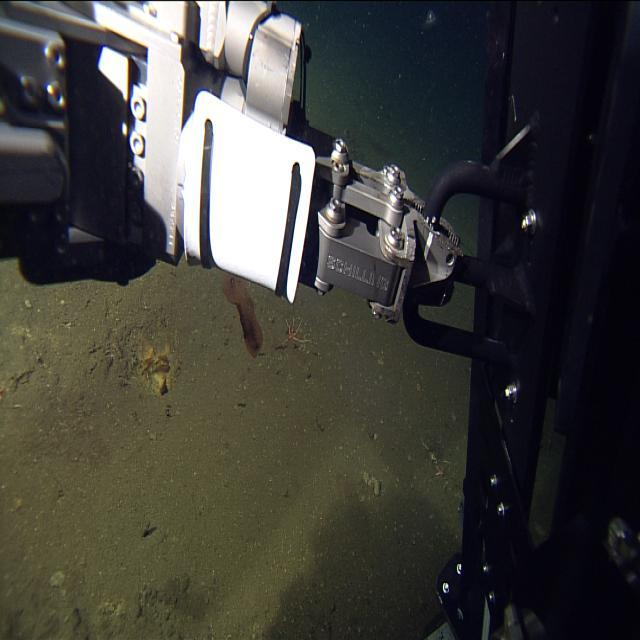Brittle Star: (282, 313, 310, 352)
Not Brittle Star: (221, 270, 264, 362)
